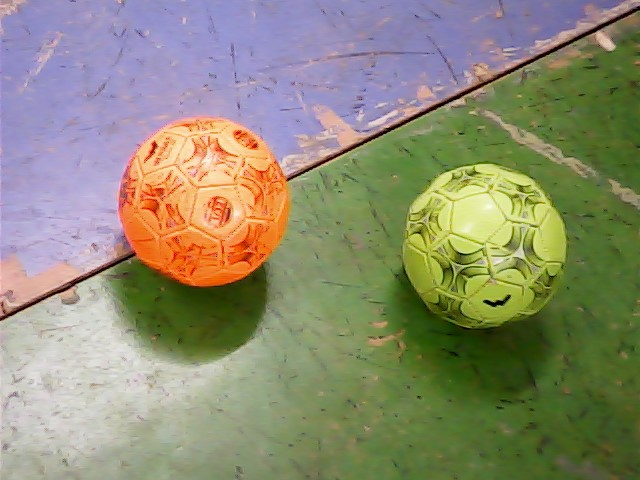Green_ball: (401, 162, 575, 335)
Orange_ball: (116, 111, 295, 296)
